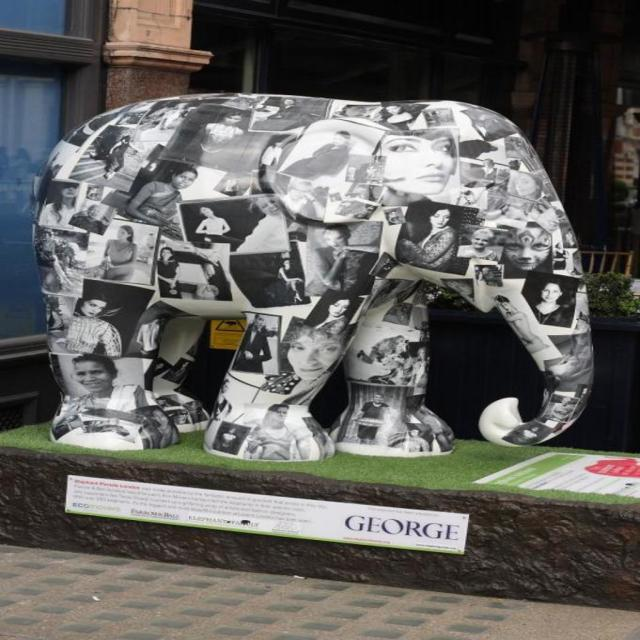elephant: (37, 79, 564, 453)
